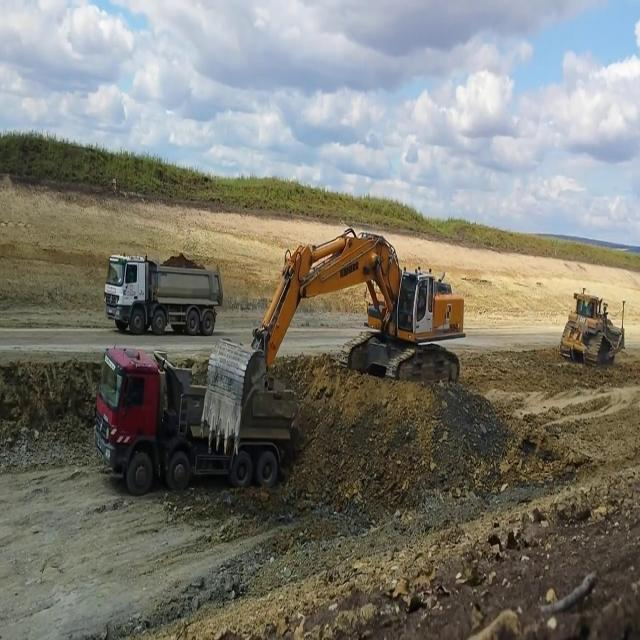excavator: (203, 227, 482, 462)
